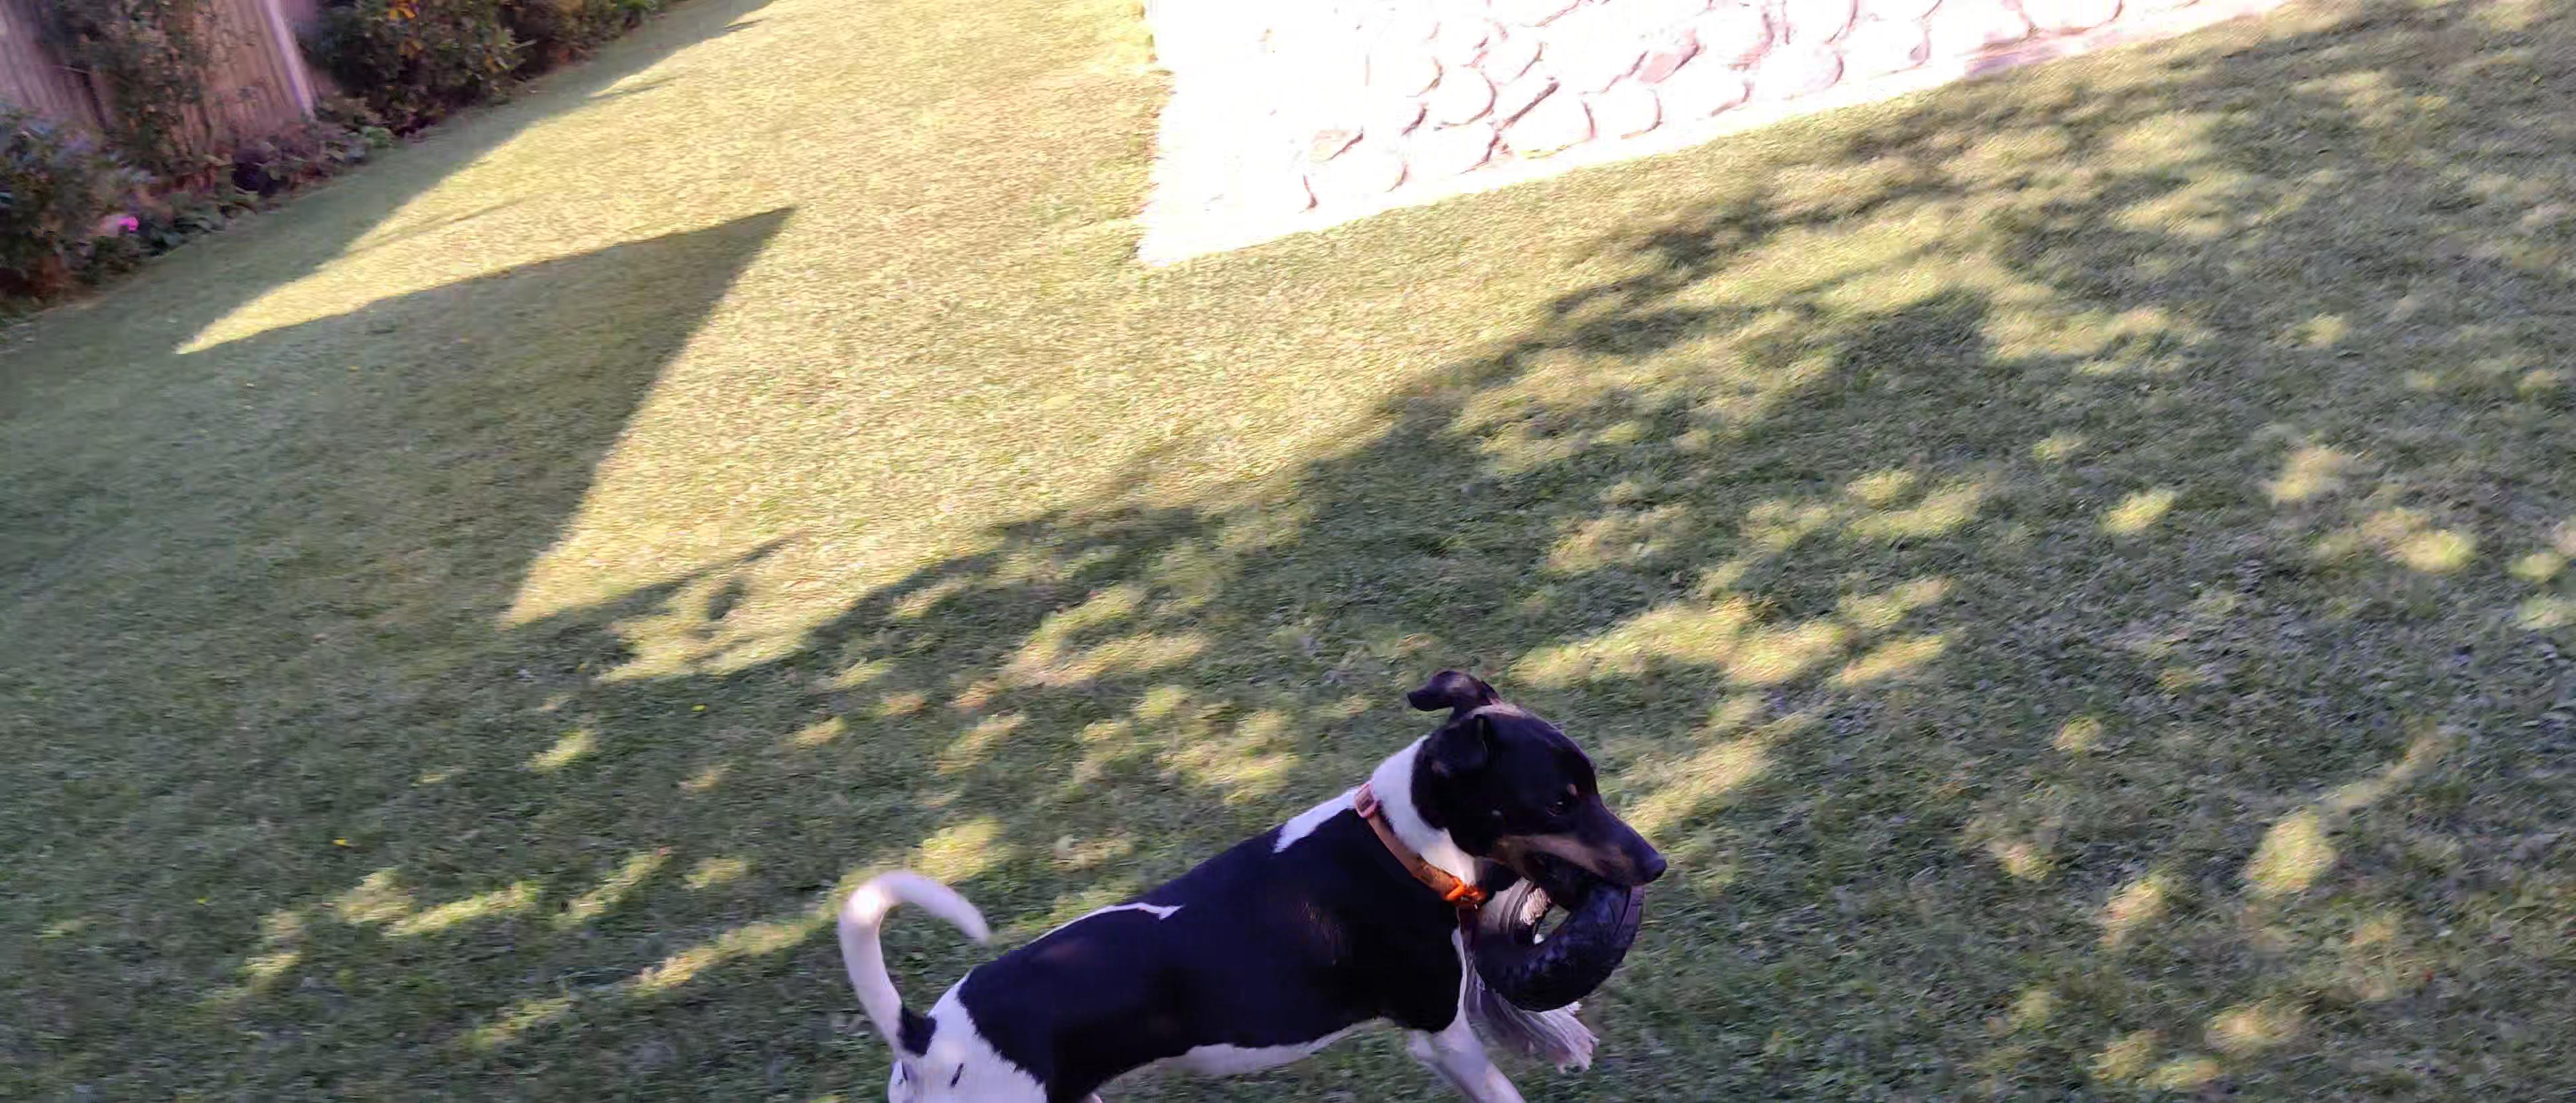Dog: (830, 664, 1672, 1103)
